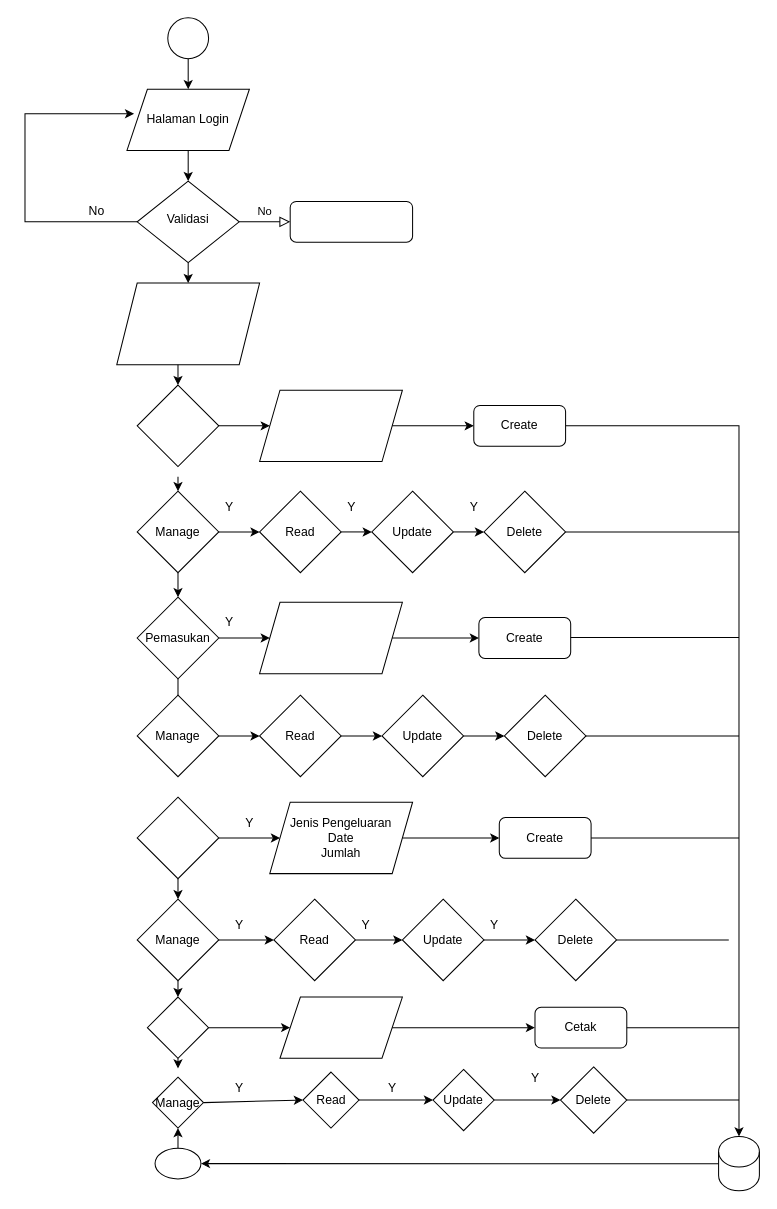
The diagram is 777 pixels wide and 1209 high, and some of its shapes have lost their labels. Each missing label, with the centre of its shape:
"Daftar user" belongs at pixel 177 425.
"Daftar User Pemasukan Pengeluaran Laporan" belongs at pixel 188 323.
"END" belongs at pixel 177 1163.
"Jenis Laporan Date" belongs at pixel 340 1027.
"Jenis pemasukan Date Jumlah" belongs at pixel 330 637.
"Nama Lengkap Nip Phone" belongs at pixel 330 425.
"Pengeluaran" belongs at pixel 177 837.
"Plug in lamp" belongs at pixel 351 221.
"Report" belongs at pixel 177 1027.
"Start" belongs at pixel 188 38.
